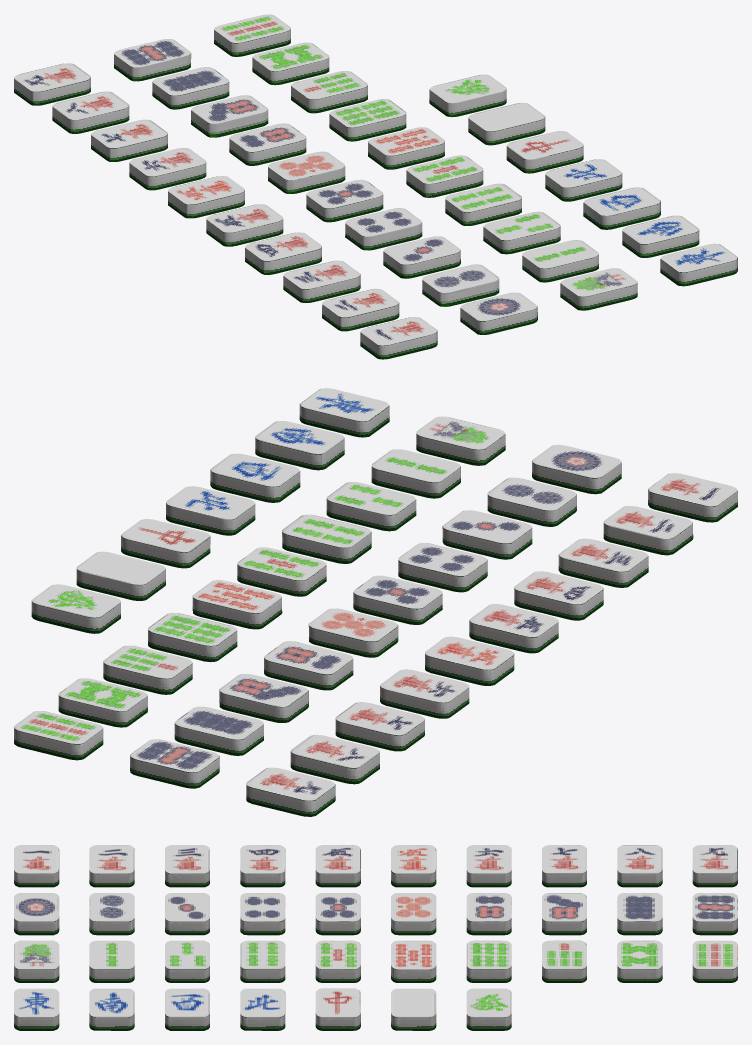
The model's file is mahjong.glb.
The picture shows the model from 3 angles, top to bottom: view 1: azimuth 30°, elevation 25°; view 2: azimuth 150°, elevation 25°; view 3: azimuth 270°, elevation 25°; orthographic projection. The views are drawn at different scales.
Parts seen in each view (by area): view 1: mesh; view 2: mesh; view 3: mesh.
Boxes of the visible parts, bbox=[...] form: mesh: bbox=[14, 14, 737, 359]; mesh: bbox=[14, 388, 737, 816]; mesh: bbox=[14, 845, 737, 1030].
Bounding box in the file's own units: 1.35 × 0.0501 × 2.4.
Materials: 1 (1 with a texture image).
